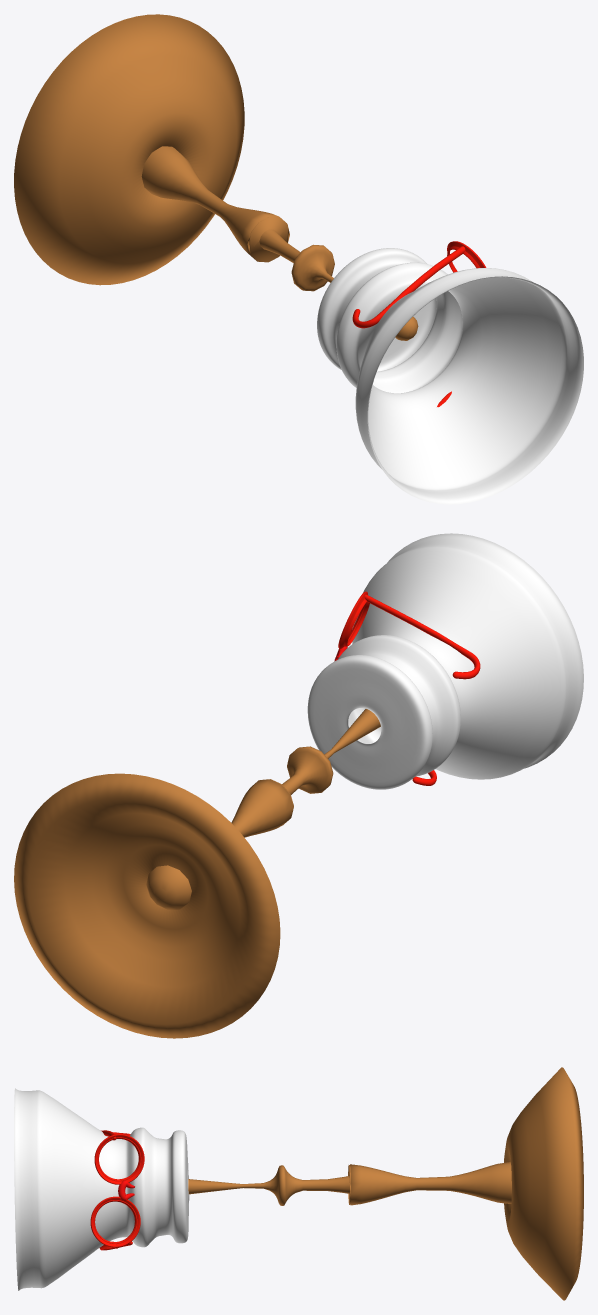
File: swag-lamp.obj
3 renders of one model, top to bottom at view 1: azimuth 30°, elevation 25°; view 2: azimuth 150°, elevation 25°; view 3: azimuth 270°, elevation 25°, orthographic. The views are drawn at different scales.
Parts seen in each view (by area): view 1: r.0096, r.0093, s.0111, s.0104; view 2: r.0093, r.0096, s.0111, s.0104, s.0102Thicken; view 3: r.0096, r.0093, s.0111, s.0103Thicken, s.0102Thicken.
Part boxes in pixels (x1,y1,x2,y2): r.0096: (317, 248, 583, 504); r.0093: (14, 14, 244, 285); s.0111: (141, 146, 418, 340); s.0104: (352, 246, 465, 328); r.0093: (14, 773, 280, 1038); r.0096: (307, 533, 583, 789); s.0111: (146, 709, 380, 910); s.0104: (364, 594, 480, 679); s.0102Thicken: (338, 591, 369, 649); r.0096: (14, 1088, 189, 1290); r.0093: (504, 1067, 583, 1300); s.0111: (188, 1162, 511, 1205); s.0103Thicken: (90, 1196, 140, 1247); s.0102Thicken: (94, 1134, 144, 1184).
Size of the model in its own units: 102 by 103 by 251.
